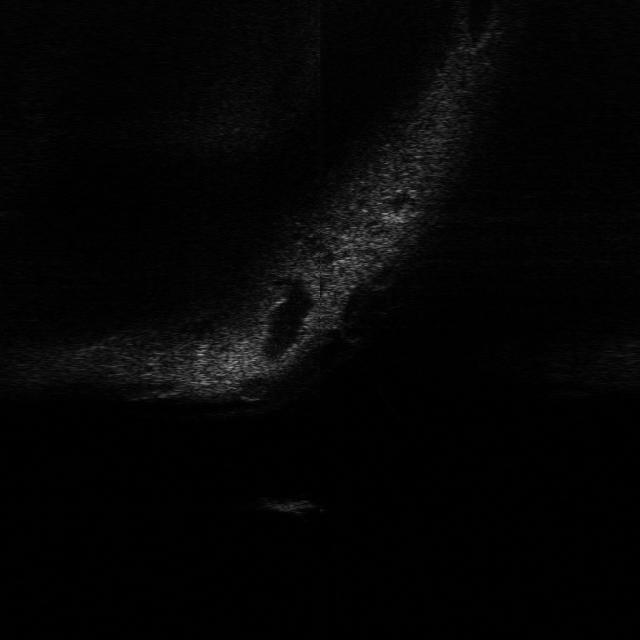cube: (256, 492, 316, 518)
